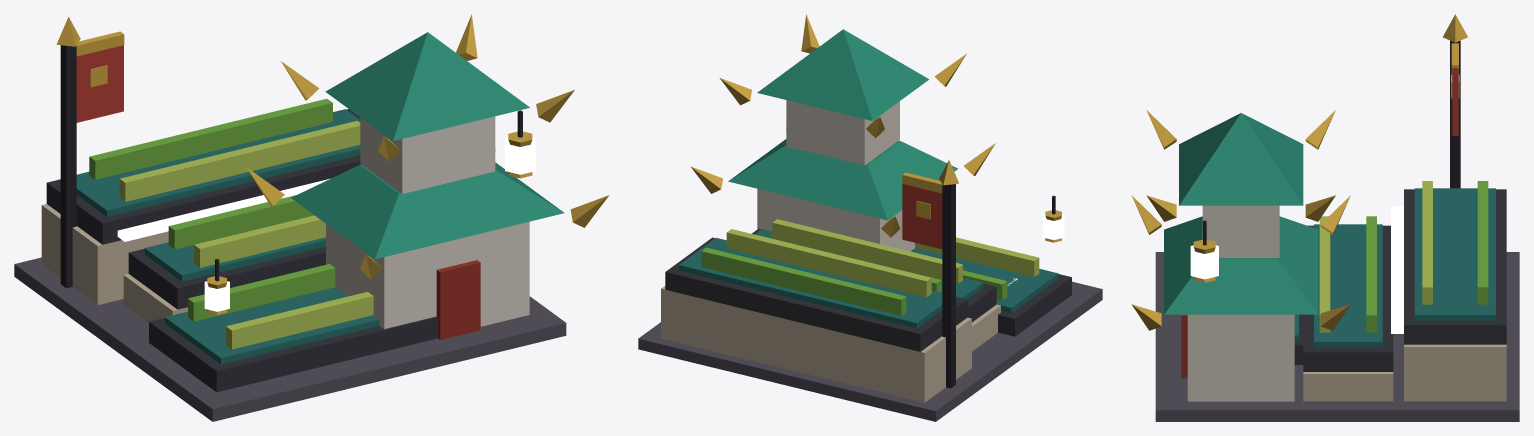
The model's file is farm_t3.glb.
3 renders of one model, left to right at view 1: azimuth 30°, elevation 25°; view 2: azimuth 150°, elevation 25°; view 3: azimuth 270°, elevation 25°, orthographic. The views are drawn at different scales.
Parts seen in each view (by area): view 1: body, glow; view 2: body, glow; view 3: body, glow.
Boxes of the visible parts, box(x1,y1,x2,y2) form: body: box(14, 14, 609, 421); glow: box(117, 137, 535, 311); body: box(638, 14, 1102, 421); glow: box(785, 100, 1064, 285); body: box(1131, 14, 1519, 421); glow: box(1190, 206, 1403, 333).
Size of the model in its own units: 1.9 by 1.38 by 1.81.
